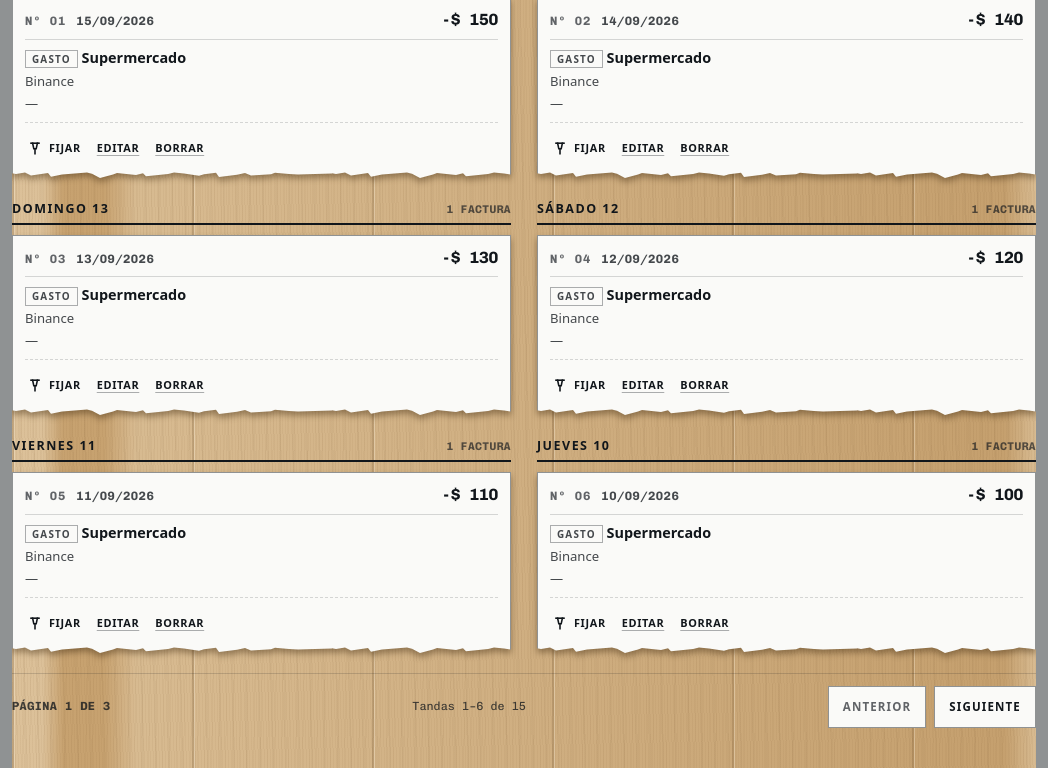
Scenario: Board › lays the month out as day blocks and pages them six days at a time
The width and height of the screenshot is (1048, 768).
(page scrolled)
Expected: the text "Página 1 de 3" is shown, [12,698,110,716]
Expected: the text "Tandas 1–6 de 15" is shown, [412,698,526,716]
Click the button "Siguiente": (985, 707) [934,686,1036,728]
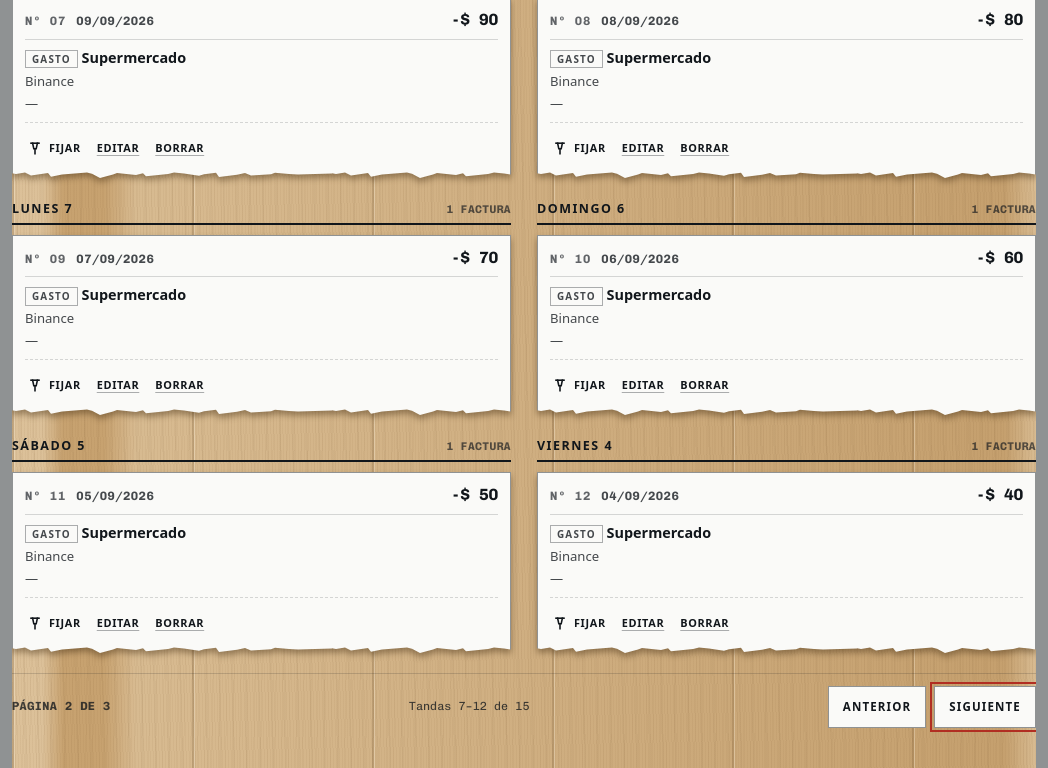
Result: the text "Página 2 de 3" is shown at [12,698,110,716]
Result: the text "Tandas 7–12 de 15" is shown at [409,698,530,716]
Click the button "Siguiente": (985, 707) [934,686,1036,728]
(page scrolled)
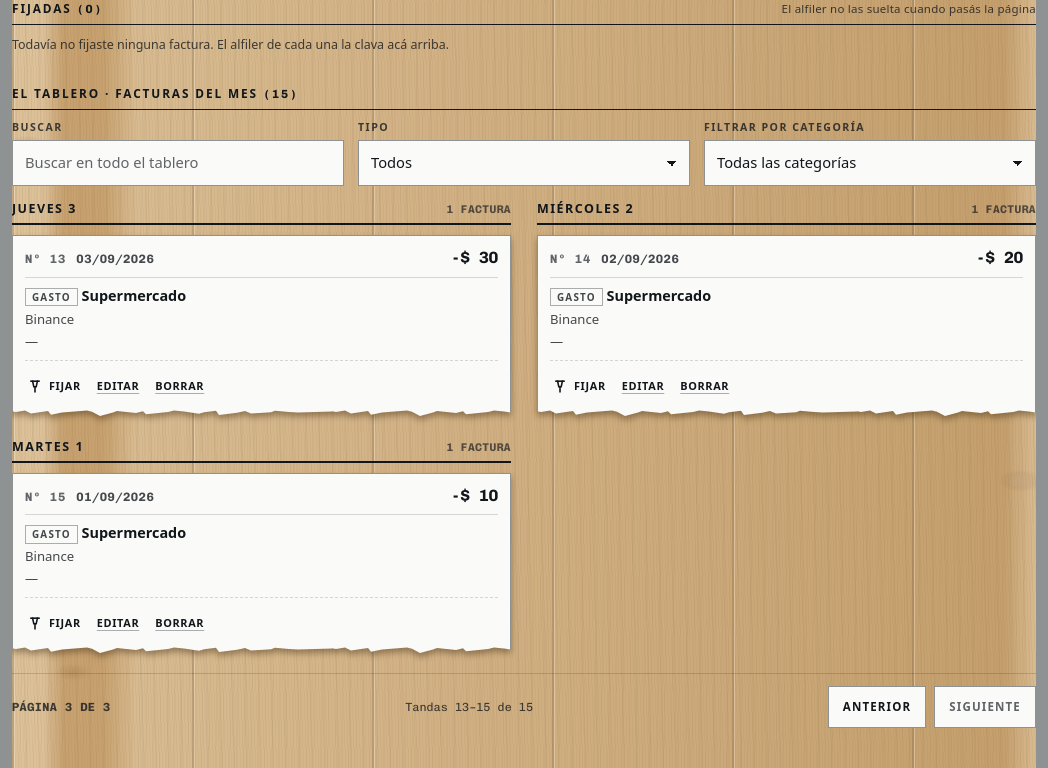
Result: the text "Página 3 de 3" is shown at [12,699,110,716]
Result: the text "Tandas 13–15 de 15" is shown at [405,699,533,716]
Result: the button "Siguiente" is disabled at [934,686,1036,728]
